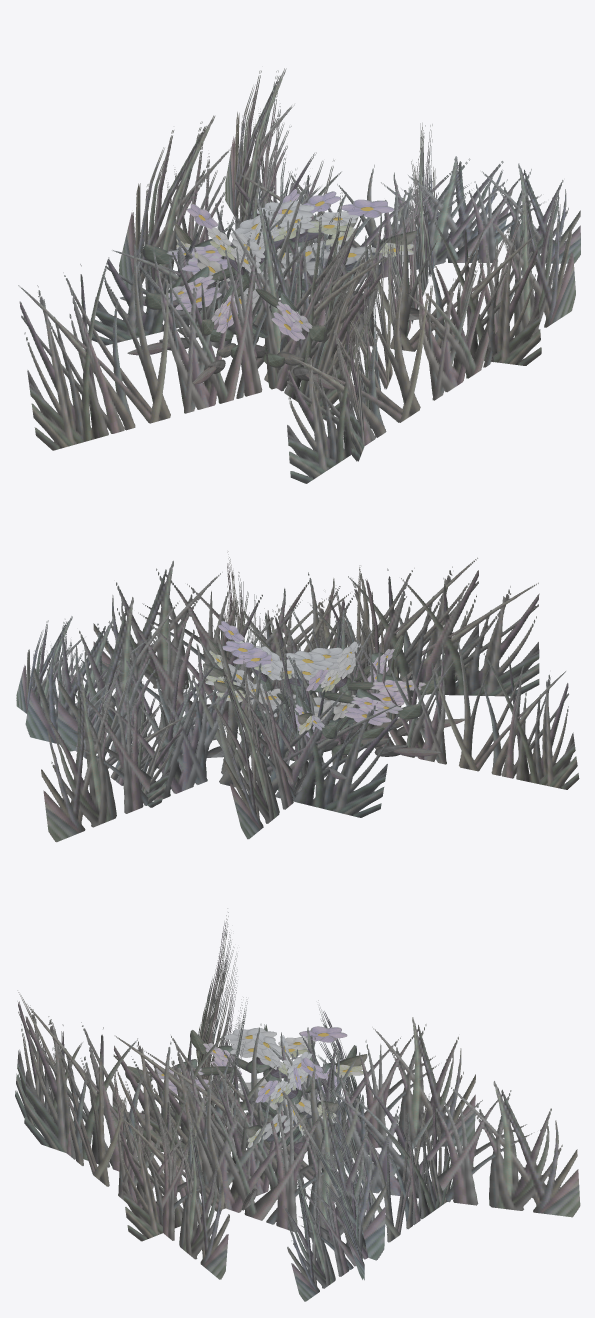
The model's file is meadow_l0.gltf.
3 renders of one model, top to bottom at view 1: azimuth 30°, elevation 25°; view 2: azimuth 150°, elevation 25°; view 3: azimuth 270°, elevation 25°, orthographic. The views are drawn at different scales.
Visible parts, largest first — view 1: meadow_l0; view 2: meadow_l0; view 3: meadow_l0.
Boxes of the visible parts, box(x1,y1,x2,y2) form: meadow_l0: box(18, 68, 580, 483); meadow_l0: box(16, 551, 579, 842); meadow_l0: box(15, 908, 580, 1301).
Size of the model in its own units: 1.75 by 0.5382 by 1.61.
1 material, 1 textured.
